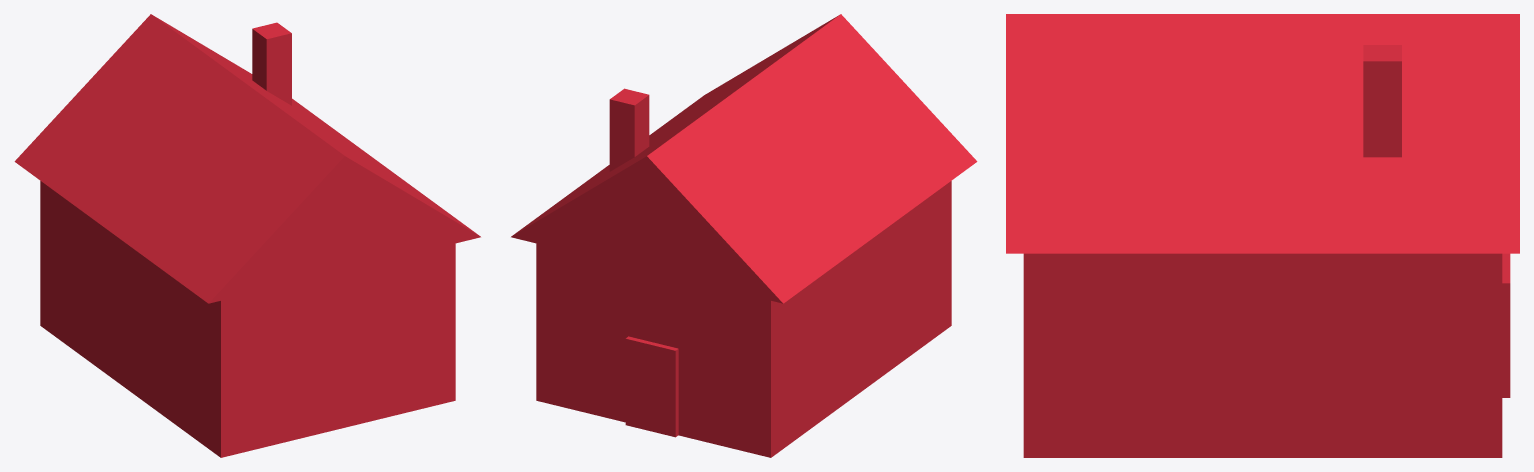
Rendered from HotelMonopoly.fbx.
3 renders of one model, left to right at view 1: azimuth 30°, elevation 25°; view 2: azimuth 150°, elevation 25°; view 3: azimuth 270°, elevation 25°, orthographic. The views are drawn at different scales.
Parts seen in each view (by area): view 1: Cube; view 2: Cube; view 3: Cube.
Part boxes in pixels (box(x1,y1,x2,y2)): Cube: box(14, 14, 480, 457); Cube: box(511, 14, 977, 457); Cube: box(1006, 14, 1519, 457).
Bounding box in the file's own units: 349 × 345 × 430.
